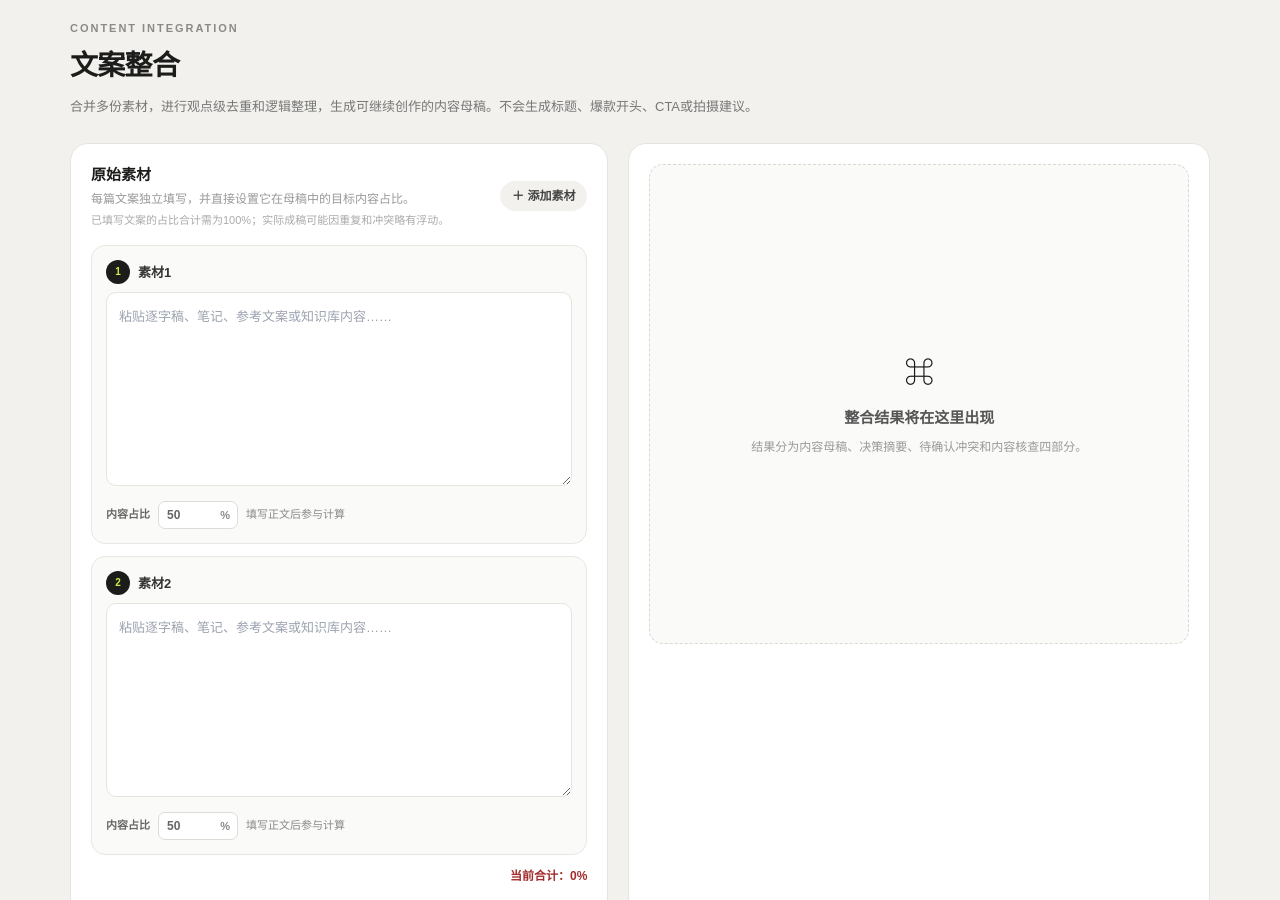
Scenario: 排除候选在用户确认前保留在母稿并支持逐条保留或排除
Type "信任是成交的前提。" into the text box named "素材正文" at (339, 388), box [106,292,572,486]
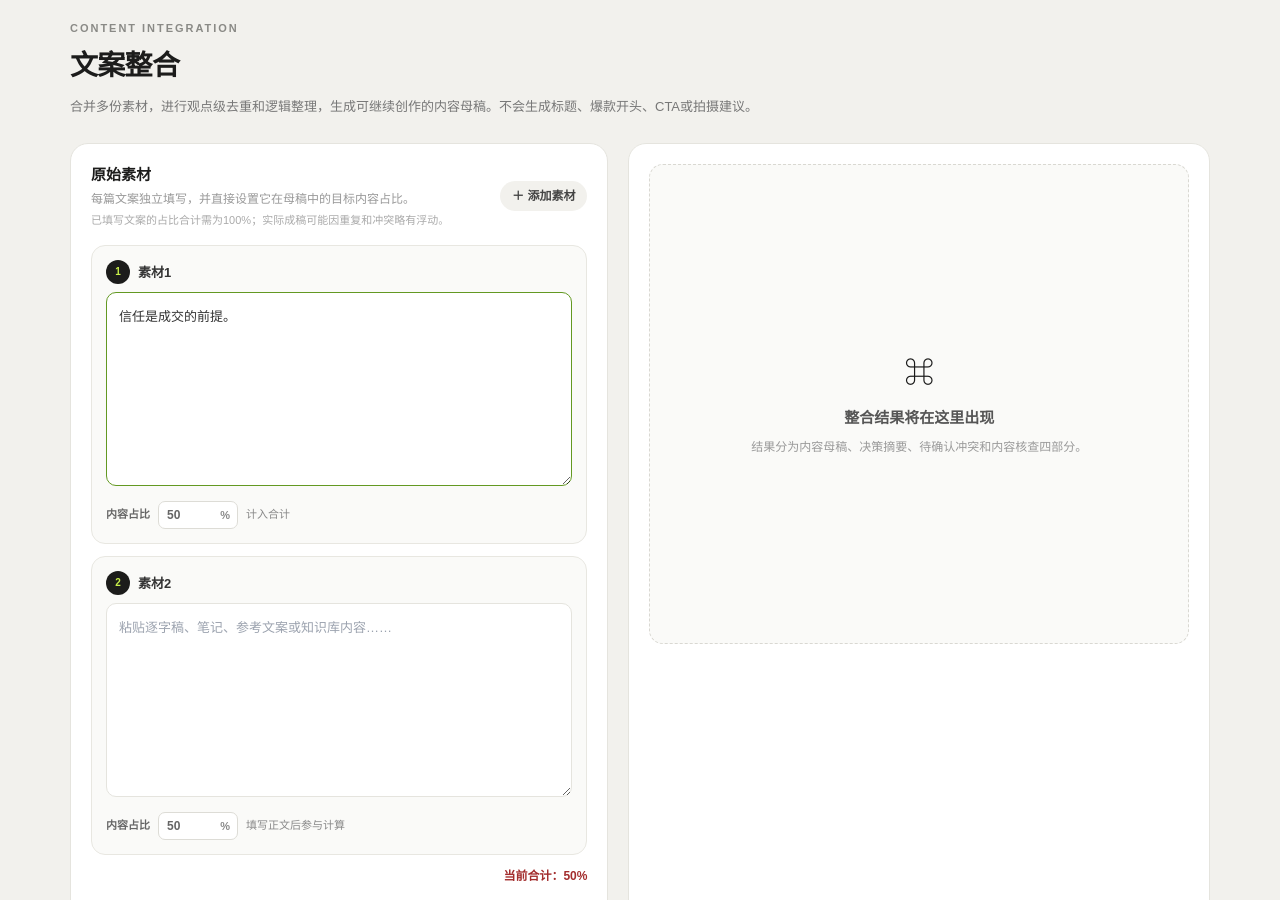
Type "你听懂了吗？" into the text box named "素材正文" at (339, 700), box [106,602,572,796]
(page scrolled)
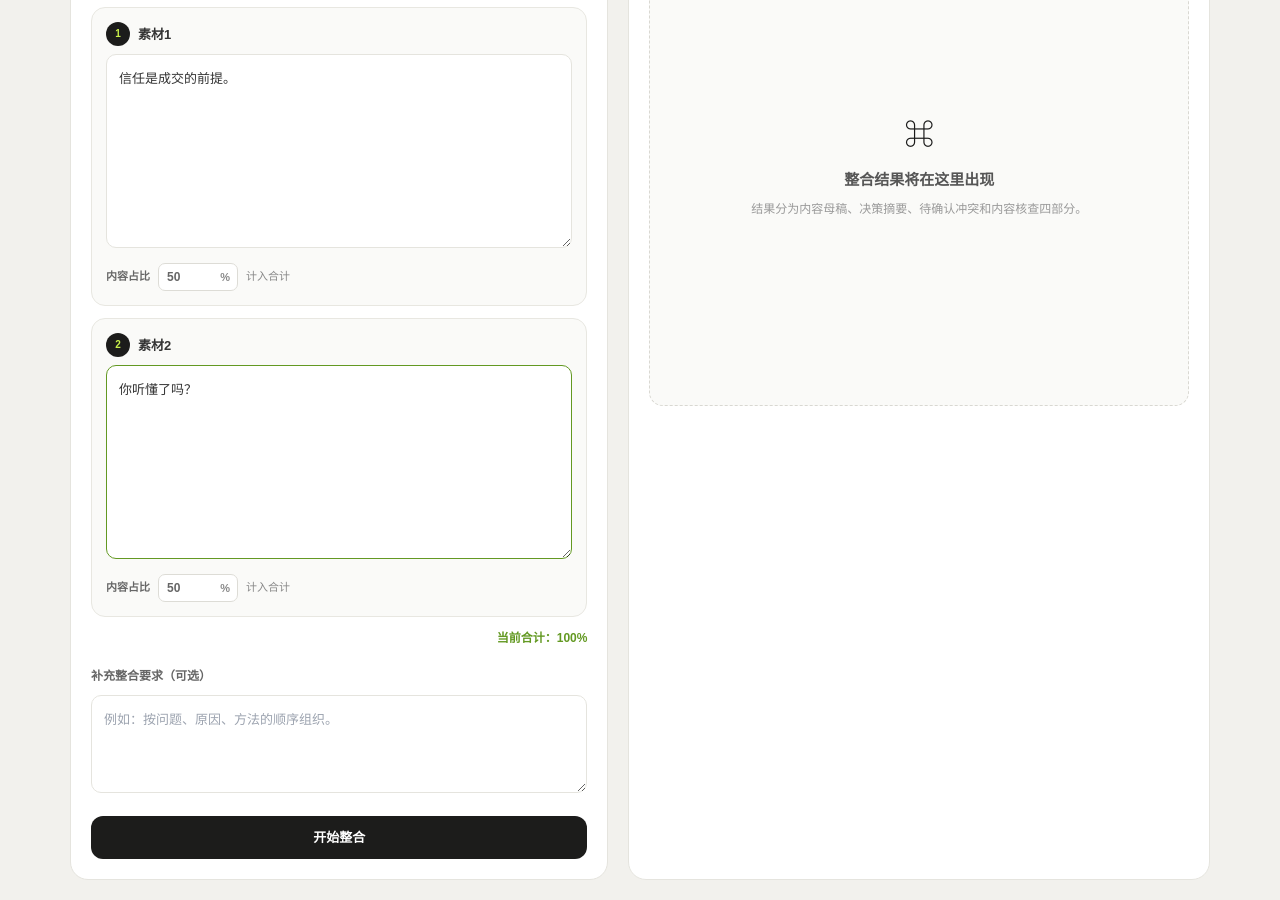
Click the button "开始整合" at (339, 837), box [91,816,588,859]
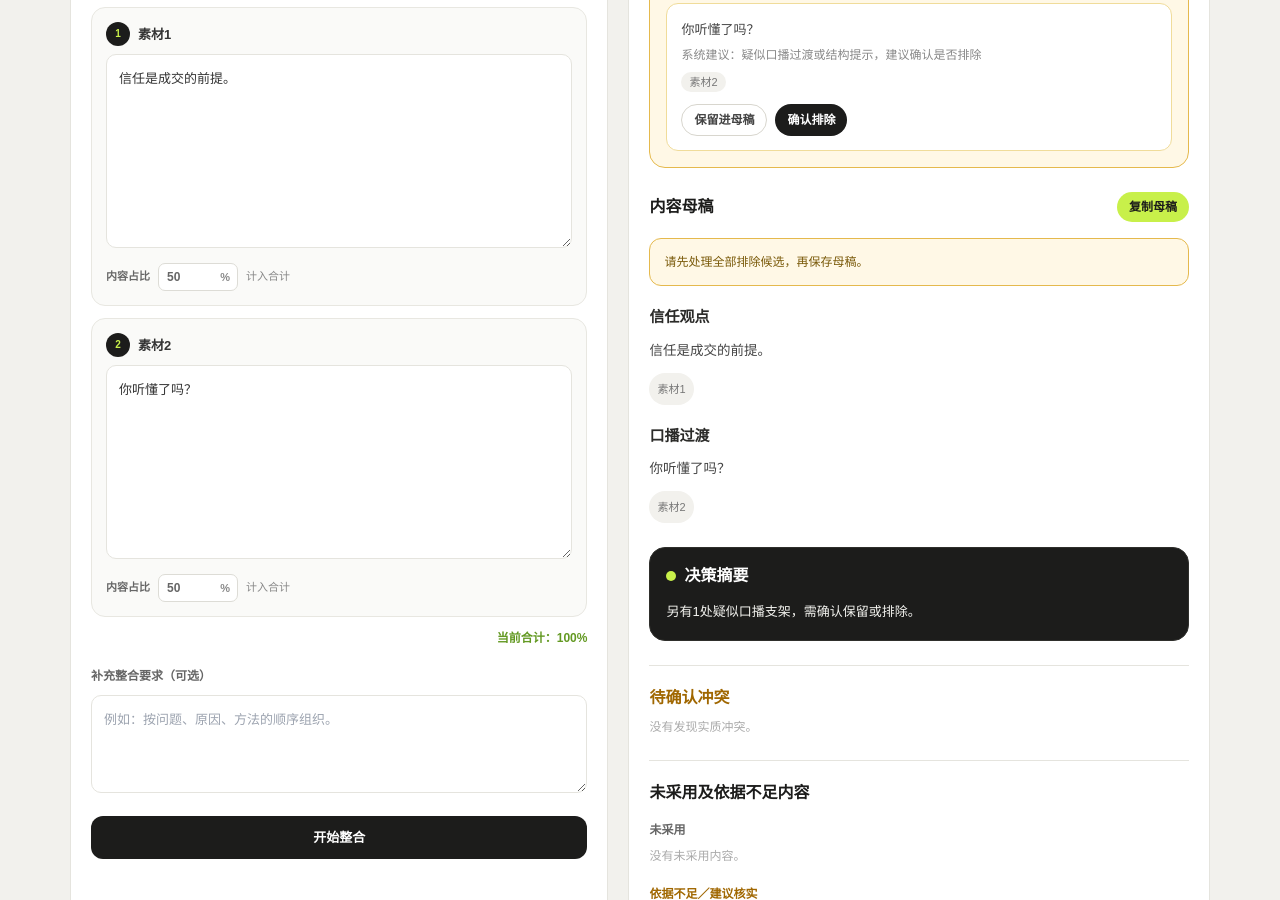
Now the text "请先处理全部排除候选，再保存母稿。" is shown, box [650,238,1189,286]
Click the button "保留进母稿" at (724, 120), box [682,104,768,136]
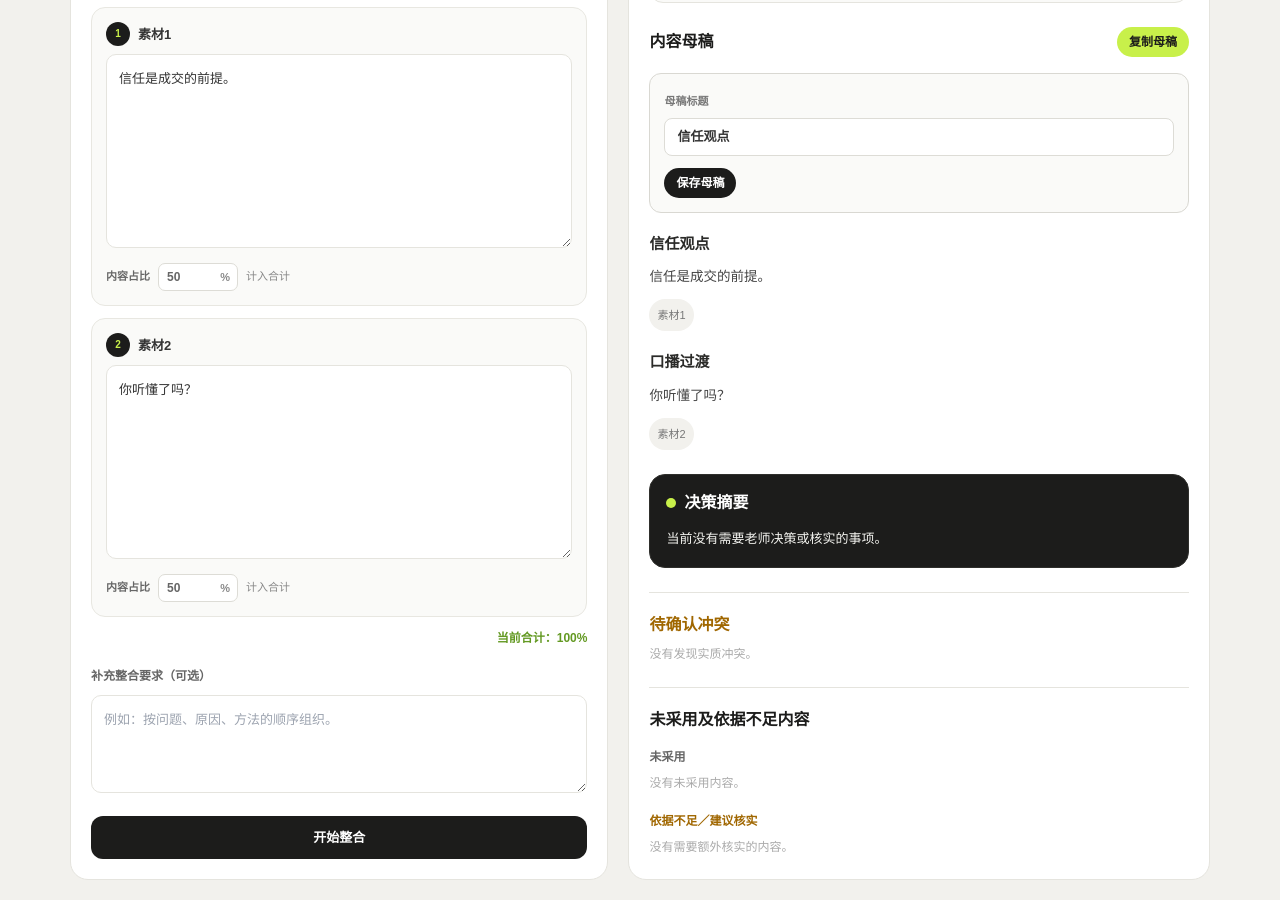
Now the heading "口播过渡" is shown, box [650,353,710,370]
Now the button "保存母稿" is shown, box [664,168,736,198]
Now the text "另有1处疑似口播支架，需确认保留或排除。" is gone
Click the button "开始整合" at (339, 837), box [91,816,588,859]
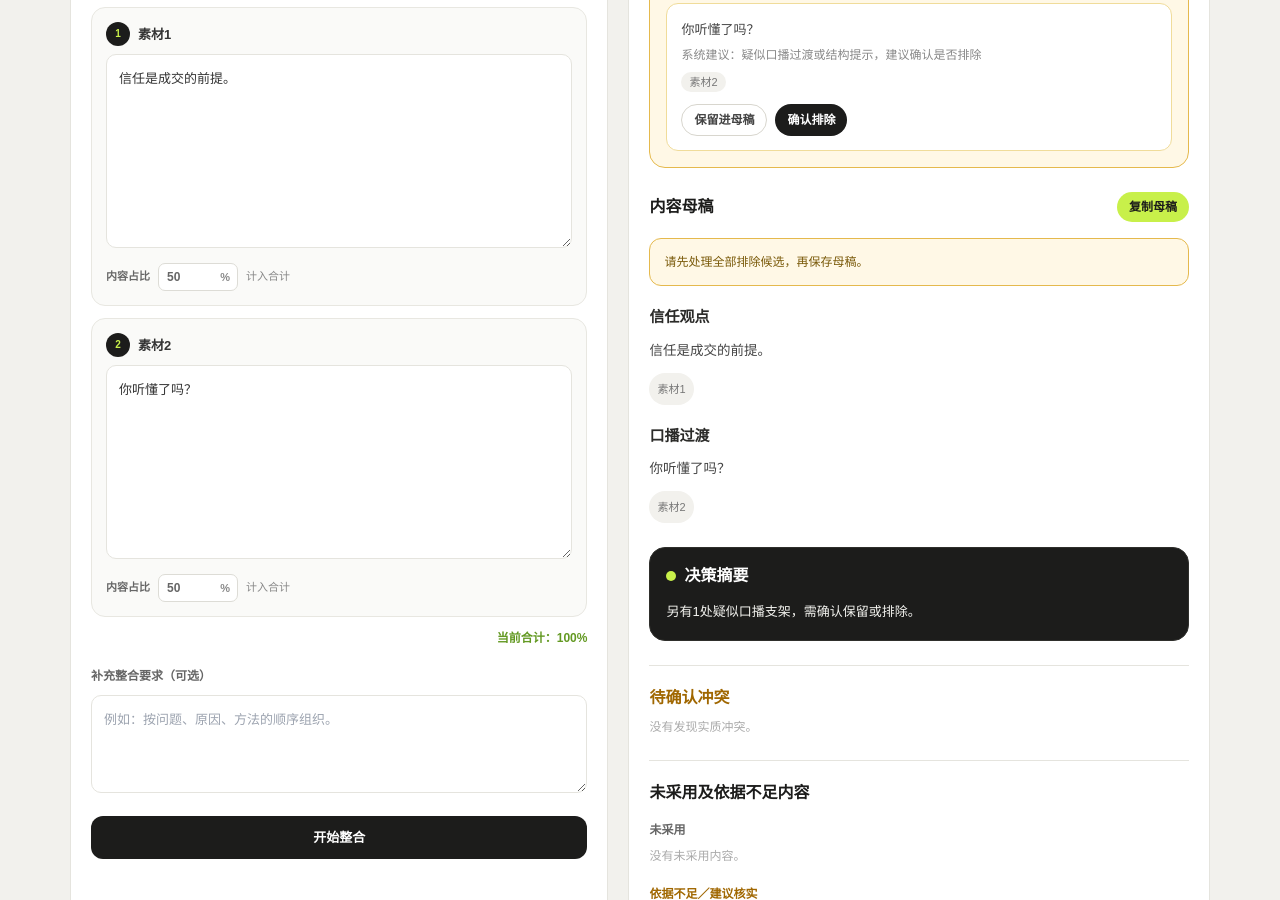
Click the button "确认排除" at (812, 120), box [776,104,848,136]
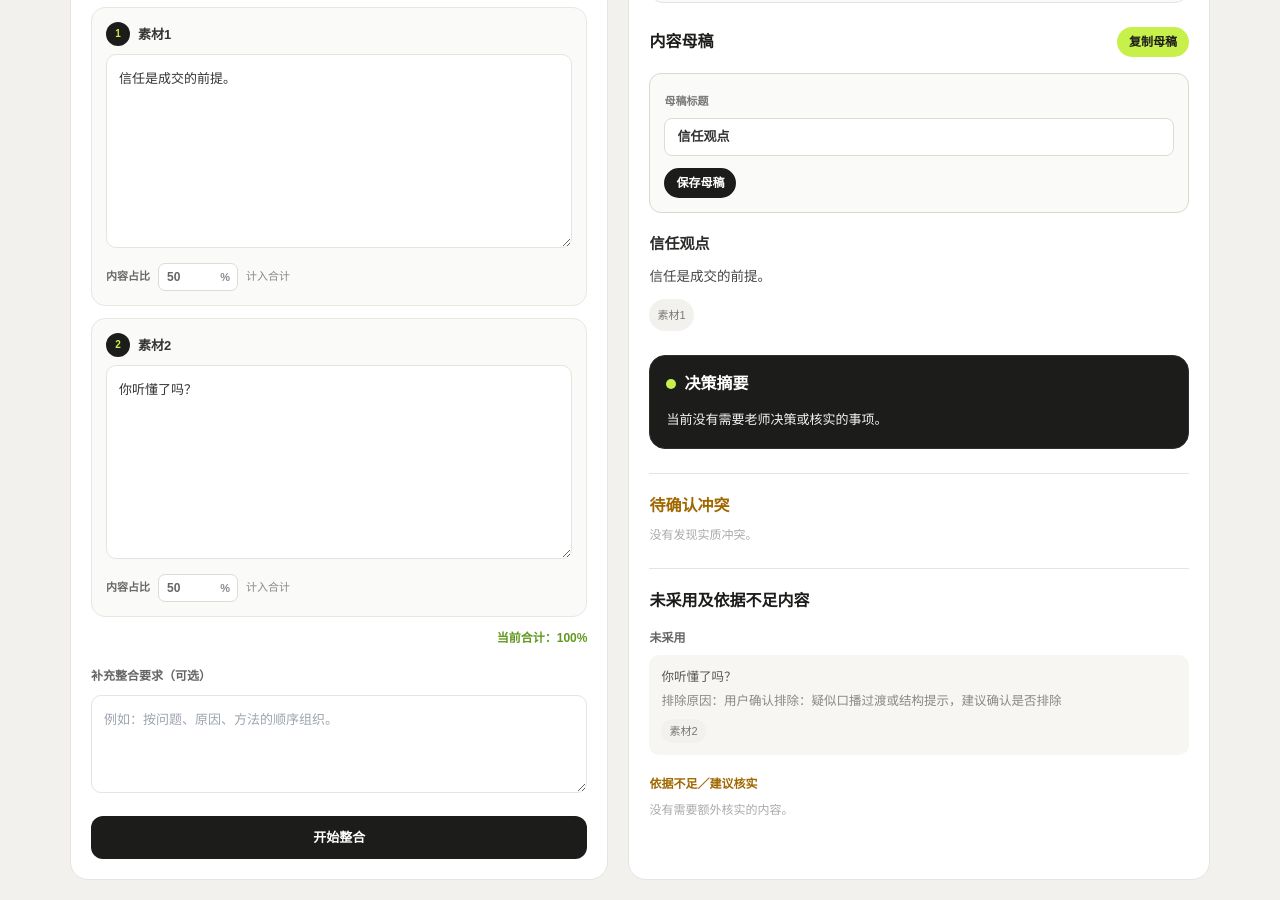
Now the text "排除原因：用户确认排除：疑似口播过渡或结构提示，建议确认是否排除" is shown, box [662,694,1062,708]
